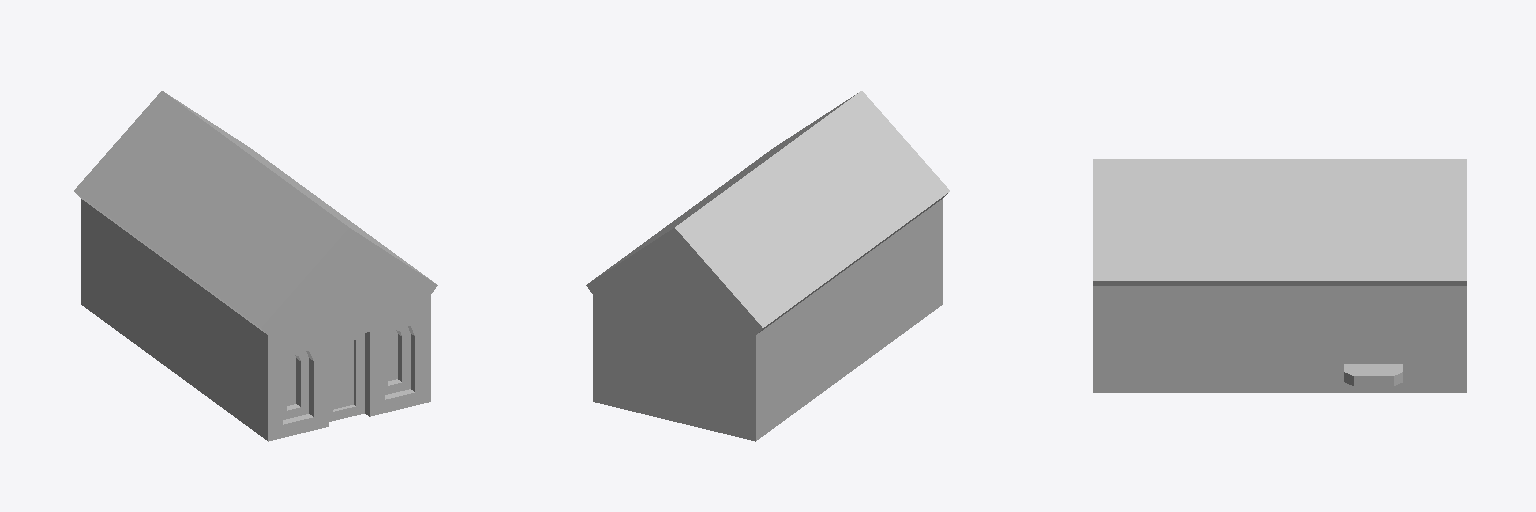
File: building-sample-house-a.obj
3 renders of one model, left to right at view 1: azimuth 30°, elevation 25°; view 2: azimuth 150°, elevation 25°; view 3: azimuth 270°, elevation 25°, orthographic.
Visible parts, largest first — view 1: building-sample-house-a; view 2: building-sample-house-a; view 3: building-sample-house-a.
Boxes of the visible parts, x1,y1,x2,y2 form: building-sample-house-a: [74, 91, 437, 441]; building-sample-house-a: [586, 91, 949, 441]; building-sample-house-a: [1093, 159, 1466, 392].
Size of the model in its own units: 1.1 by 1.14 by 2.